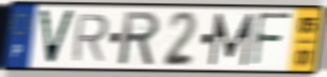2: (163, 9, 200, 68)
F: (250, 10, 294, 69)
M: (207, 11, 256, 68)
R: (118, 10, 162, 68), (70, 13, 112, 63)
V: (37, 8, 78, 67)
